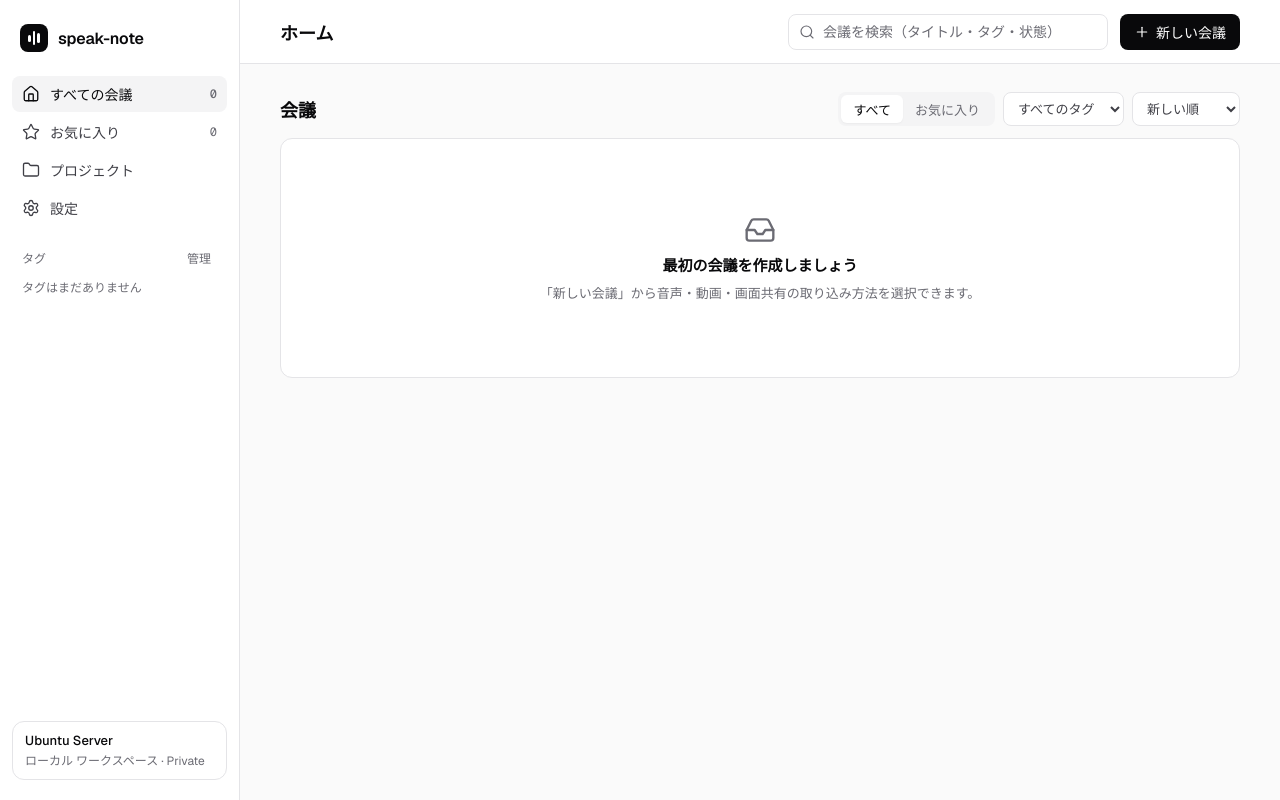
Test: settings and meeting creation navigation › keeps home creation working through the new meeting button with no header theme control
Expected: the link to "/settings/ai" reads "設定", [22,199,78,218]
Click the button "新しい会議". click: (1180, 32)
box: [1120,14,1240,50]
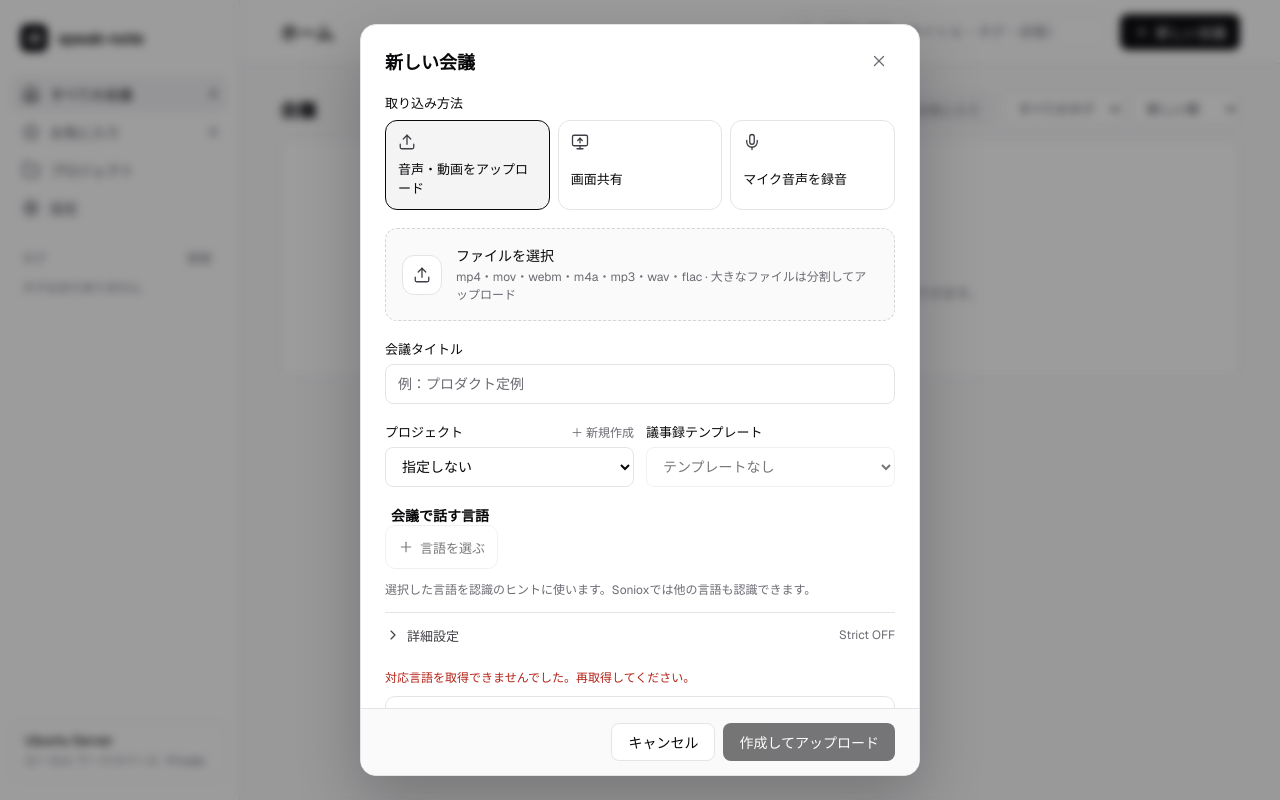
Expected: the heading "新しい会議" is shown, [385,48,475,74]
Expected: the radio button named "source_type" is shown, [385,120,550,210]
